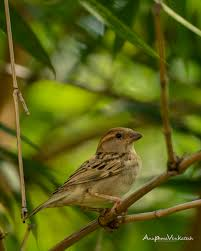hsparrow: (26, 118, 155, 235)
